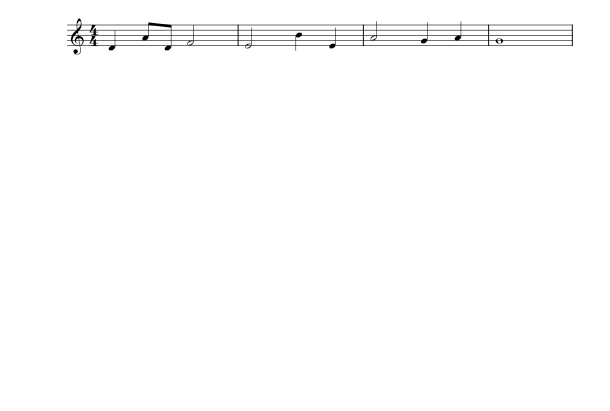Treble Clef: (66, 14, 87, 59)
